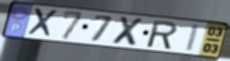7: (61, 9, 84, 41), (92, 14, 116, 43)
I: (184, 23, 203, 53)
R: (147, 19, 179, 51)
X: (110, 15, 147, 48), (26, 7, 60, 39)
